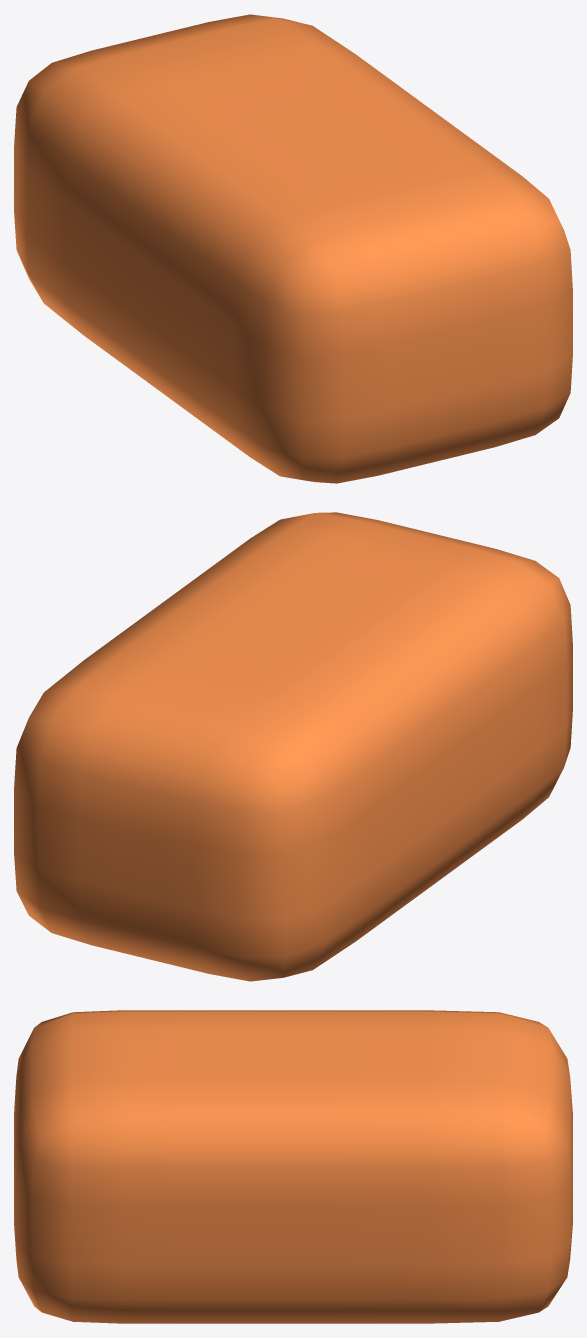
The model's file is Clay.fbx.
3 renders of one model, top to bottom at view 1: azimuth 30°, elevation 25°; view 2: azimuth 150°, elevation 25°; view 3: azimuth 270°, elevation 25°, orthographic. The views are drawn at different scales.
Parts seen in each view (by area): view 1: Cube; view 2: Cube; view 3: Cube.
Boxes of the visible parts, x1,y1,x2,y2 form: Cube: [14, 14, 572, 483]; Cube: [14, 512, 572, 981]; Cube: [14, 1010, 572, 1323].
Bounding box in the file's own units: 114 × 88.61 × 200.
